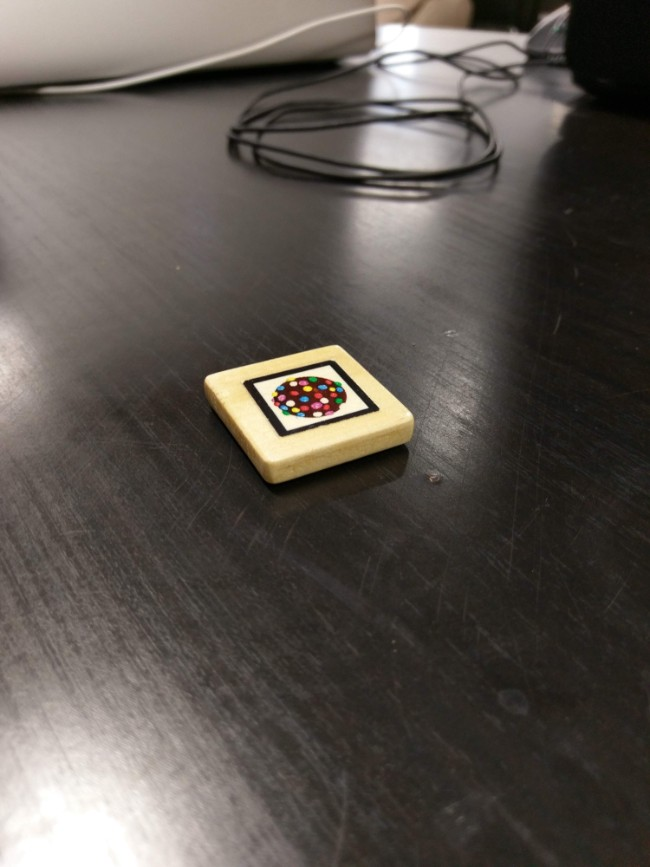cookie: (246, 362, 382, 437)
